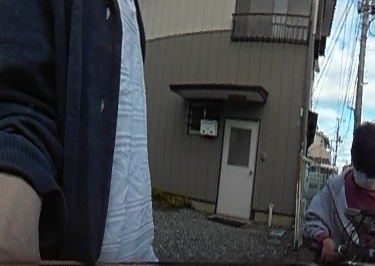person: (302, 116, 375, 264)
